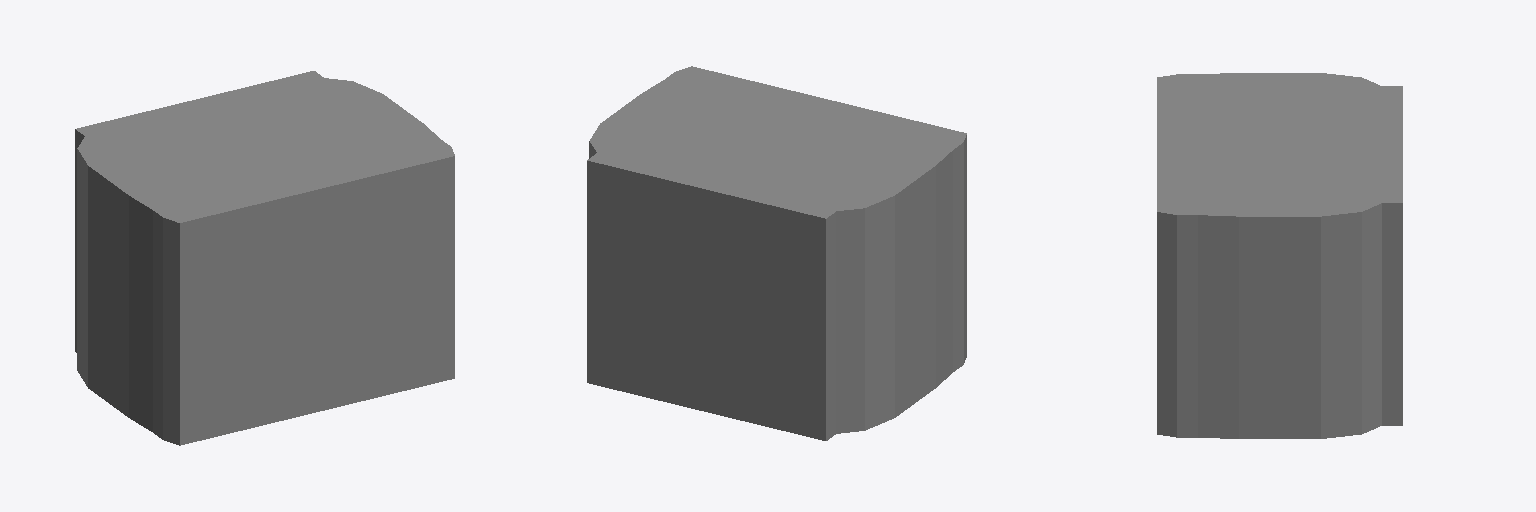
File: oldtv.obj
3 renders of one model, left to right at view 1: azimuth 30°, elevation 25°; view 2: azimuth 150°, elevation 25°; view 3: azimuth 270°, elevation 25°, orthographic.
Visible parts, largest first — view 1: default; view 2: default; view 3: default.
Boxes of the visible parts, x1,y1,x2,y2 form: default: [75, 71, 454, 445]; default: [587, 66, 966, 440]; default: [1157, 73, 1402, 438].
Size of the model in its own units: 31.04 by 22.4 by 22.4.